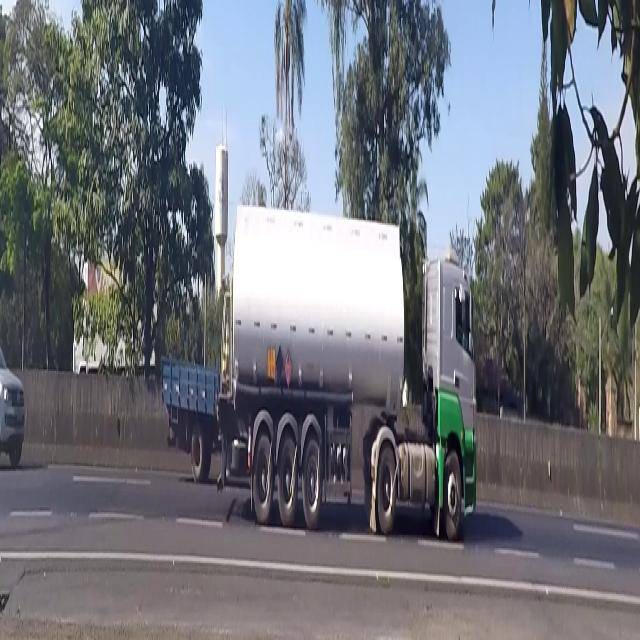-axle: (375, 438, 398, 548), (252, 424, 274, 537), (277, 420, 298, 528), (440, 445, 462, 544), (303, 429, 324, 525)
